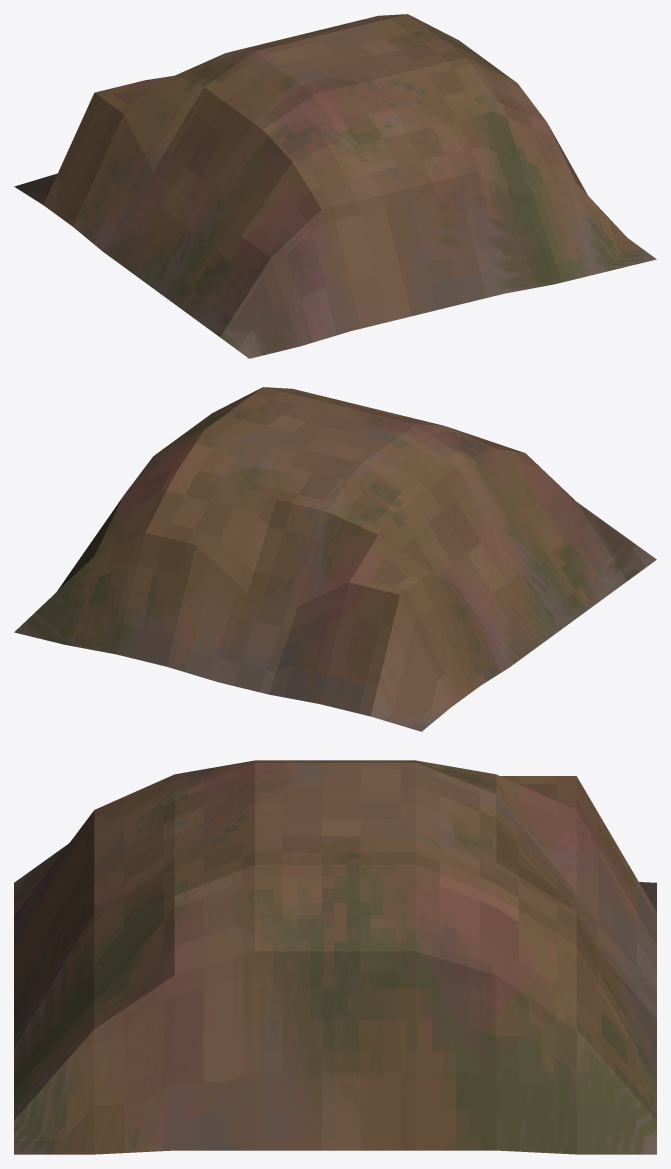
Rendered from mod_structure_trashCan_trashPile.fbx.
The picture shows the model from 3 angles, top to bottom: view 1: azimuth 30°, elevation 25°; view 2: azimuth 150°, elevation 25°; view 3: azimuth 270°, elevation 25°; orthographic projection. The views are drawn at different scales.
Parts seen in each view (by area): view 1: mesh_TrashPile; view 2: mesh_TrashPile; view 3: mesh_TrashPile.
Boxes of the visible parts, <box> form: mesh_TrashPile: <box>14,14,656,358</box>; mesh_TrashPile: <box>14,387,656,731</box>; mesh_TrashPile: <box>14,760,656,1154</box>.
Size of the model in its own units: 400 by 152 by 400.
